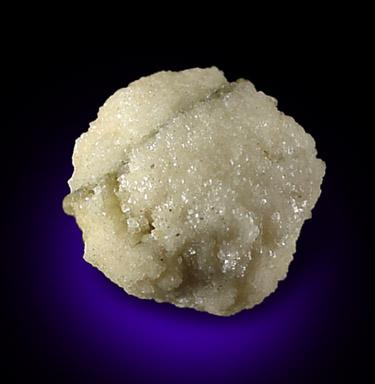calcite: (63, 67, 326, 316)
